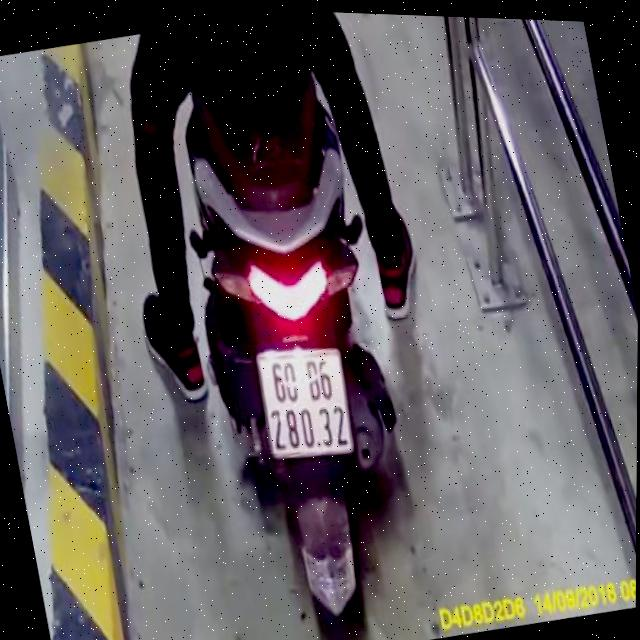motorcycle: (159, 64, 448, 640)
plate: (248, 332, 362, 471)
